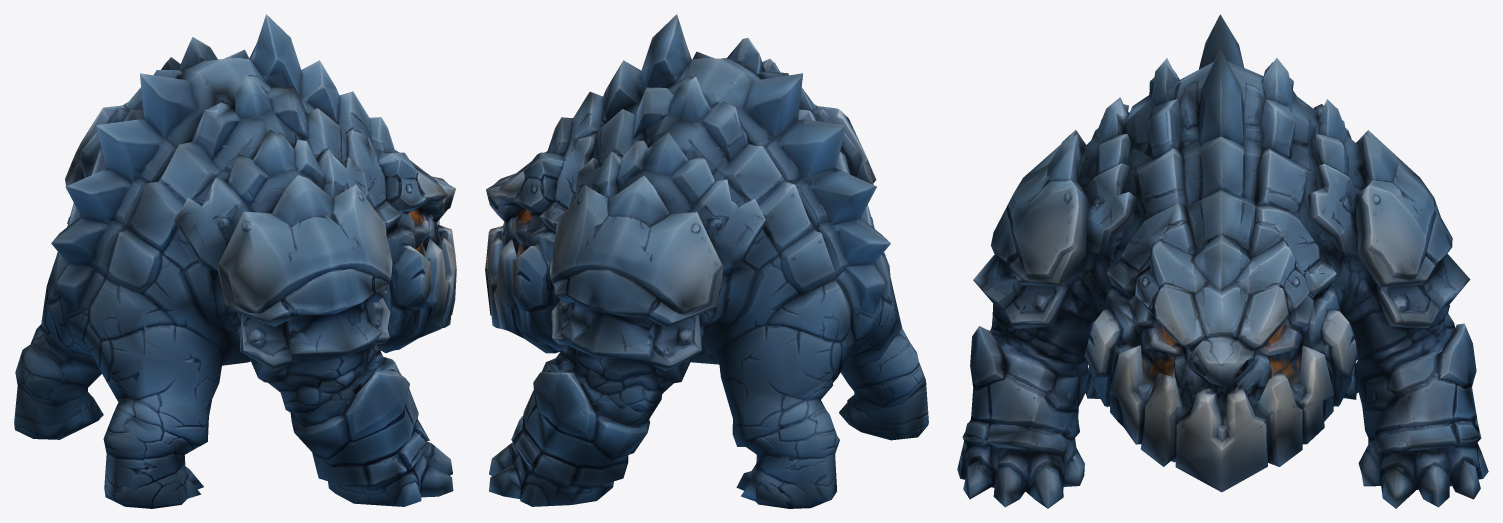
File: ironjaw.glb
3 renders of one model, left to right at view 1: azimuth 30°, elevation 25°; view 2: azimuth 150°, elevation 25°; view 3: azimuth 270°, elevation 25°, orthographic. The views are drawn at different scales.
Visible parts, largest first — view 1: tripo_node_95fb768d-5e22-46f2-80aa-53eef0a63f5b; view 2: tripo_node_95fb768d-5e22-46f2-80aa-53eef0a63f5b; view 3: tripo_node_95fb768d-5e22-46f2-80aa-53eef0a63f5b.
Boxes of the visible parts, x1,y1,x2,y2 form: tripo_node_95fb768d-5e22-46f2-80aa-53eef0a63f5b: (14,14,456,508); tripo_node_95fb768d-5e22-46f2-80aa-53eef0a63f5b: (485,14,928,508); tripo_node_95fb768d-5e22-46f2-80aa-53eef0a63f5b: (957,14,1488,508).
Size of the model in its own units: 0.8778 by 0.8491 by 0.975.
1 material, 1 textured.
